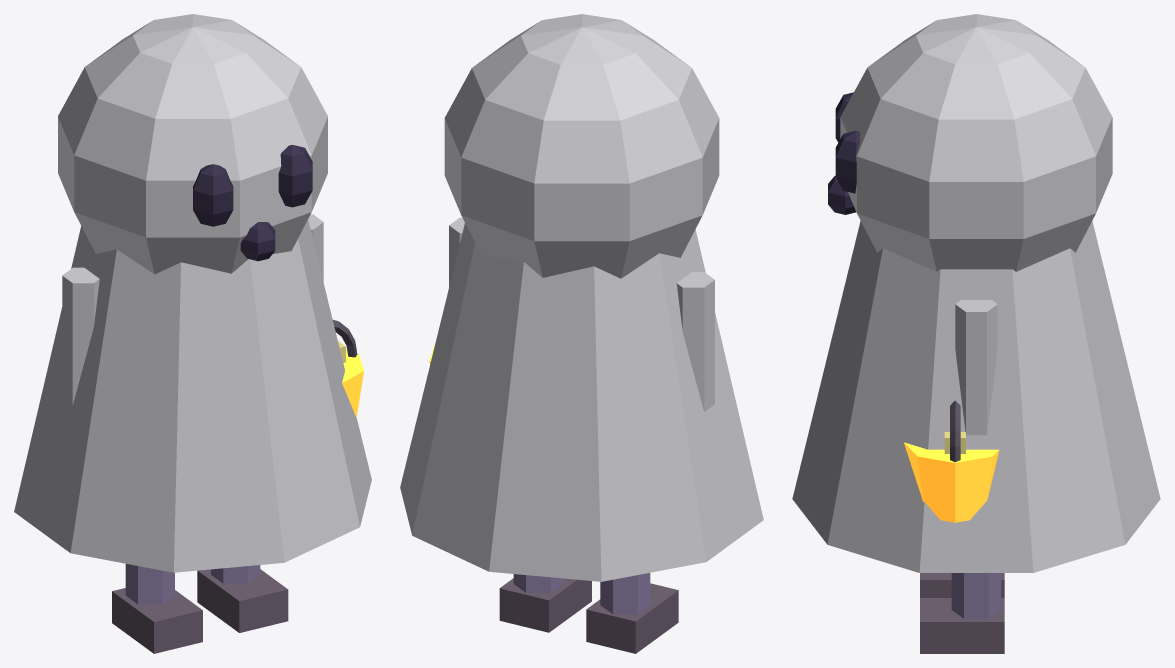
File: ghost_kid.glb
3 views of the same model, side by side, from view 1: azimuth 30°, elevation 25°; view 2: azimuth 150°, elevation 25°; view 3: azimuth 270°, elevation 25° (orthographic).
Parts seen in each view (by area): view 1: GhostKid; view 2: GhostKid; view 3: GhostKid.
Boxes of the visible parts, bbox=[...] form: GhostKid: bbox=[14, 14, 371, 653]; GhostKid: bbox=[400, 14, 763, 653]; GhostKid: bbox=[792, 14, 1160, 653].
Bounding box in the file's own units: 0.7233 × 1.33 × 0.7488.
